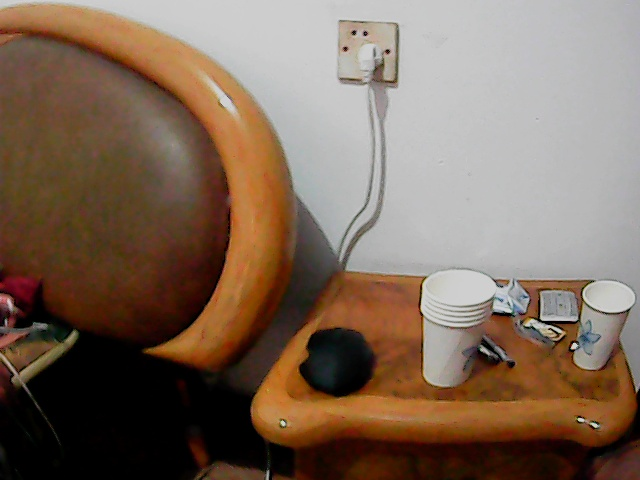cup: (418, 266, 492, 388)
mouse: (298, 326, 373, 396)
